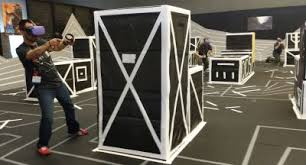oculus: (26, 24, 46, 36)
